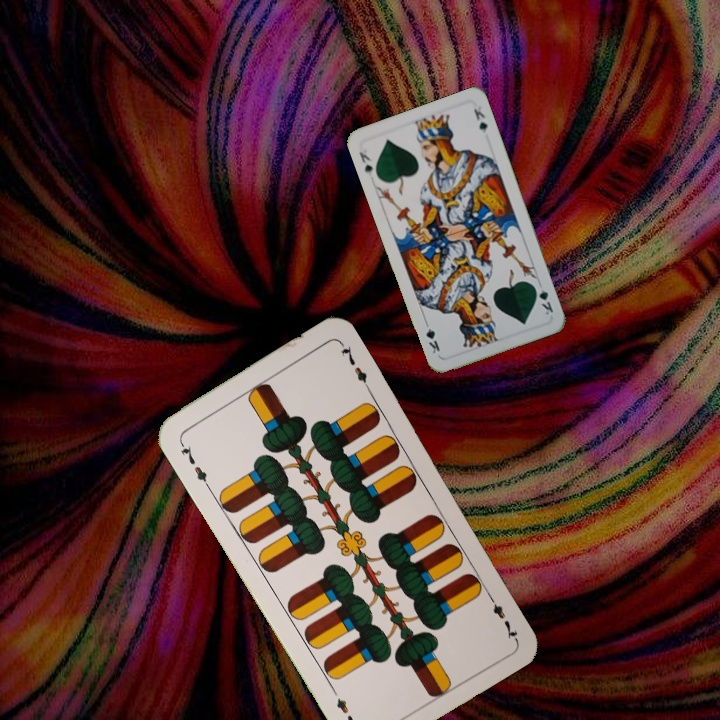E7: (483, 588, 520, 642), (175, 437, 212, 490)
GK: (530, 280, 556, 318), (355, 148, 375, 179)
